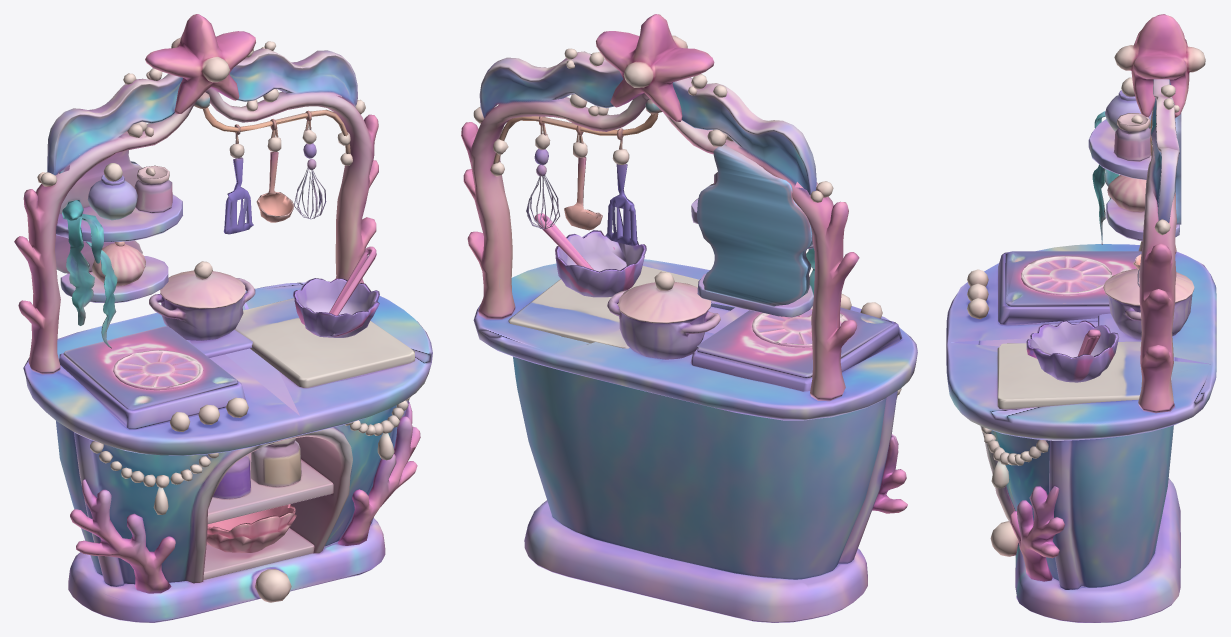
The model's file is pearl-reef-kitchen.glb.
3 views of the same model, side by side, from view 1: azimuth 30°, elevation 25°; view 2: azimuth 150°, elevation 25°; view 3: azimuth 270°, elevation 25° (orthographic). The views are drawn at different scales.
Parts seen in each view (by area): view 1: geometry_0; view 2: geometry_0; view 3: geometry_0.
Boxes of the visible parts, left/top/right/bottom form: geometry_0: left=14, top=14, right=432, bottom=622; geometry_0: left=461, top=14, right=917, bottom=622; geometry_0: left=946, top=14, right=1216, bottom=622.
Bounding box in the file's own units: 0.6821 × 0.9521 × 0.4321.
1 material, 1 textured.
